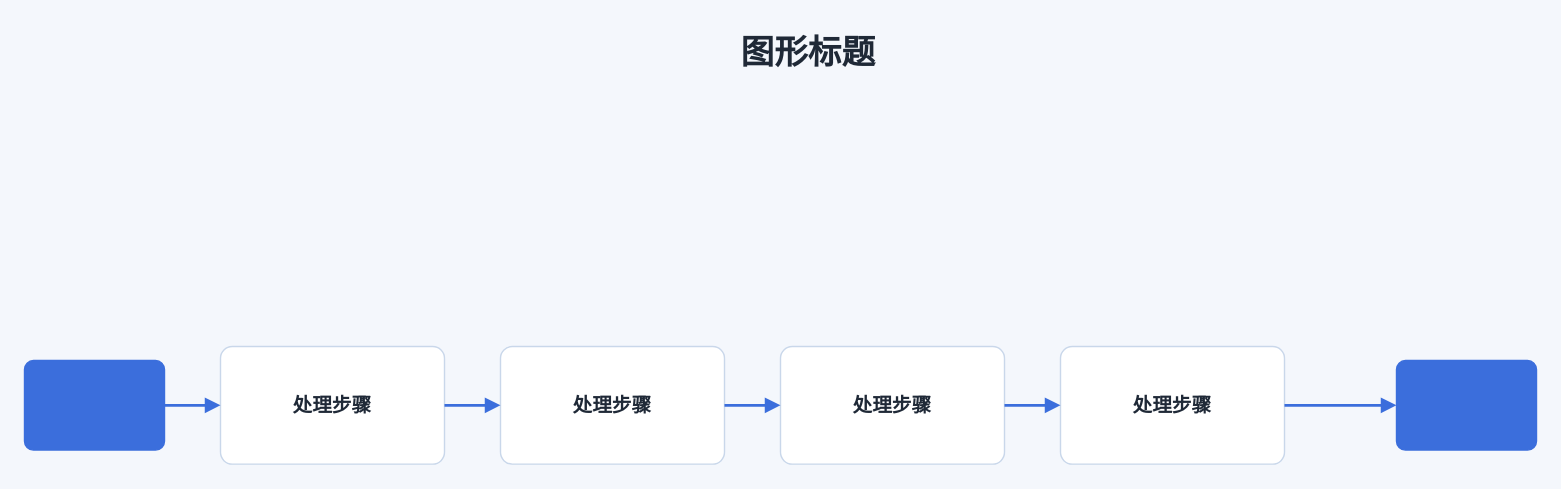
This 1561x489 diagram has some shape labels left out. Here are the shapes that lost their labels. From the top down, the centre of each, then its label:
At pixel 93 404: "开始".
At pixel 1465 404: "结束".
